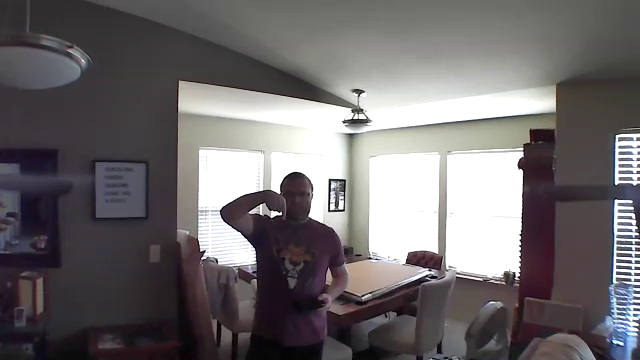down: (259, 183, 293, 224)
